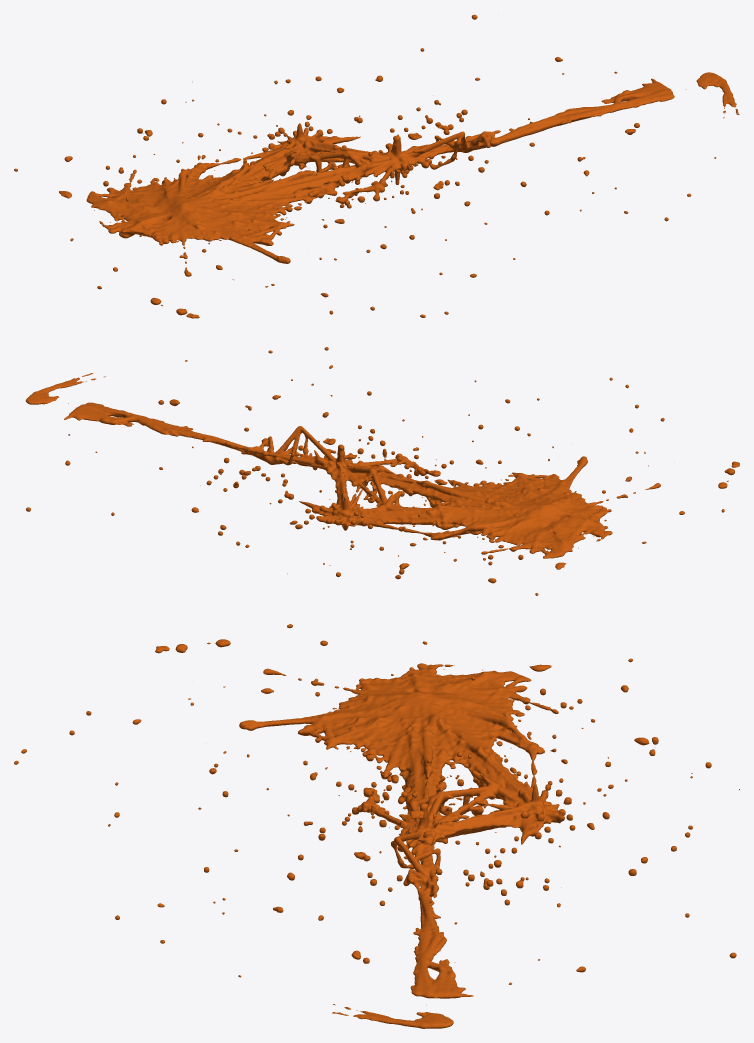
Rendered from iso_0.001_draco.glb.
3 views of the same model, one above another, from view 1: azimuth 30°, elevation 25°; view 2: azimuth 150°, elevation 25°; view 3: azimuth 270°, elevation 25° (orthographic). The views are drawn at different scales.
Visible parts, largest first — view 1: Renderer Node; view 2: Renderer Node; view 3: Renderer Node.
Part boxes in pixels (box(x1,y1,x2,y2)): Renderer Node: box(14, 14, 739, 318); Renderer Node: box(25, 347, 739, 595); Renderer Node: box(14, 624, 739, 1028).
Bounding box in the file's own units: 2.67e+09 × 1.82e+08 × 2.03e+09.
Materials: 1 (1 with a texture image).
